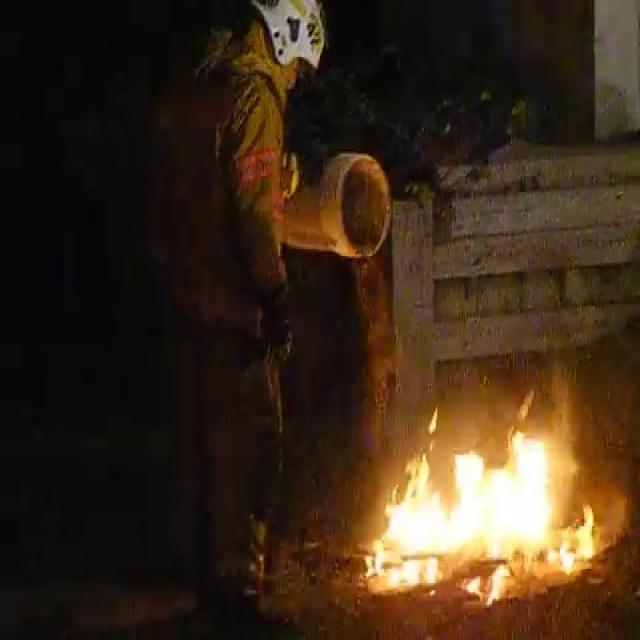Fire: (372, 419, 597, 600)
